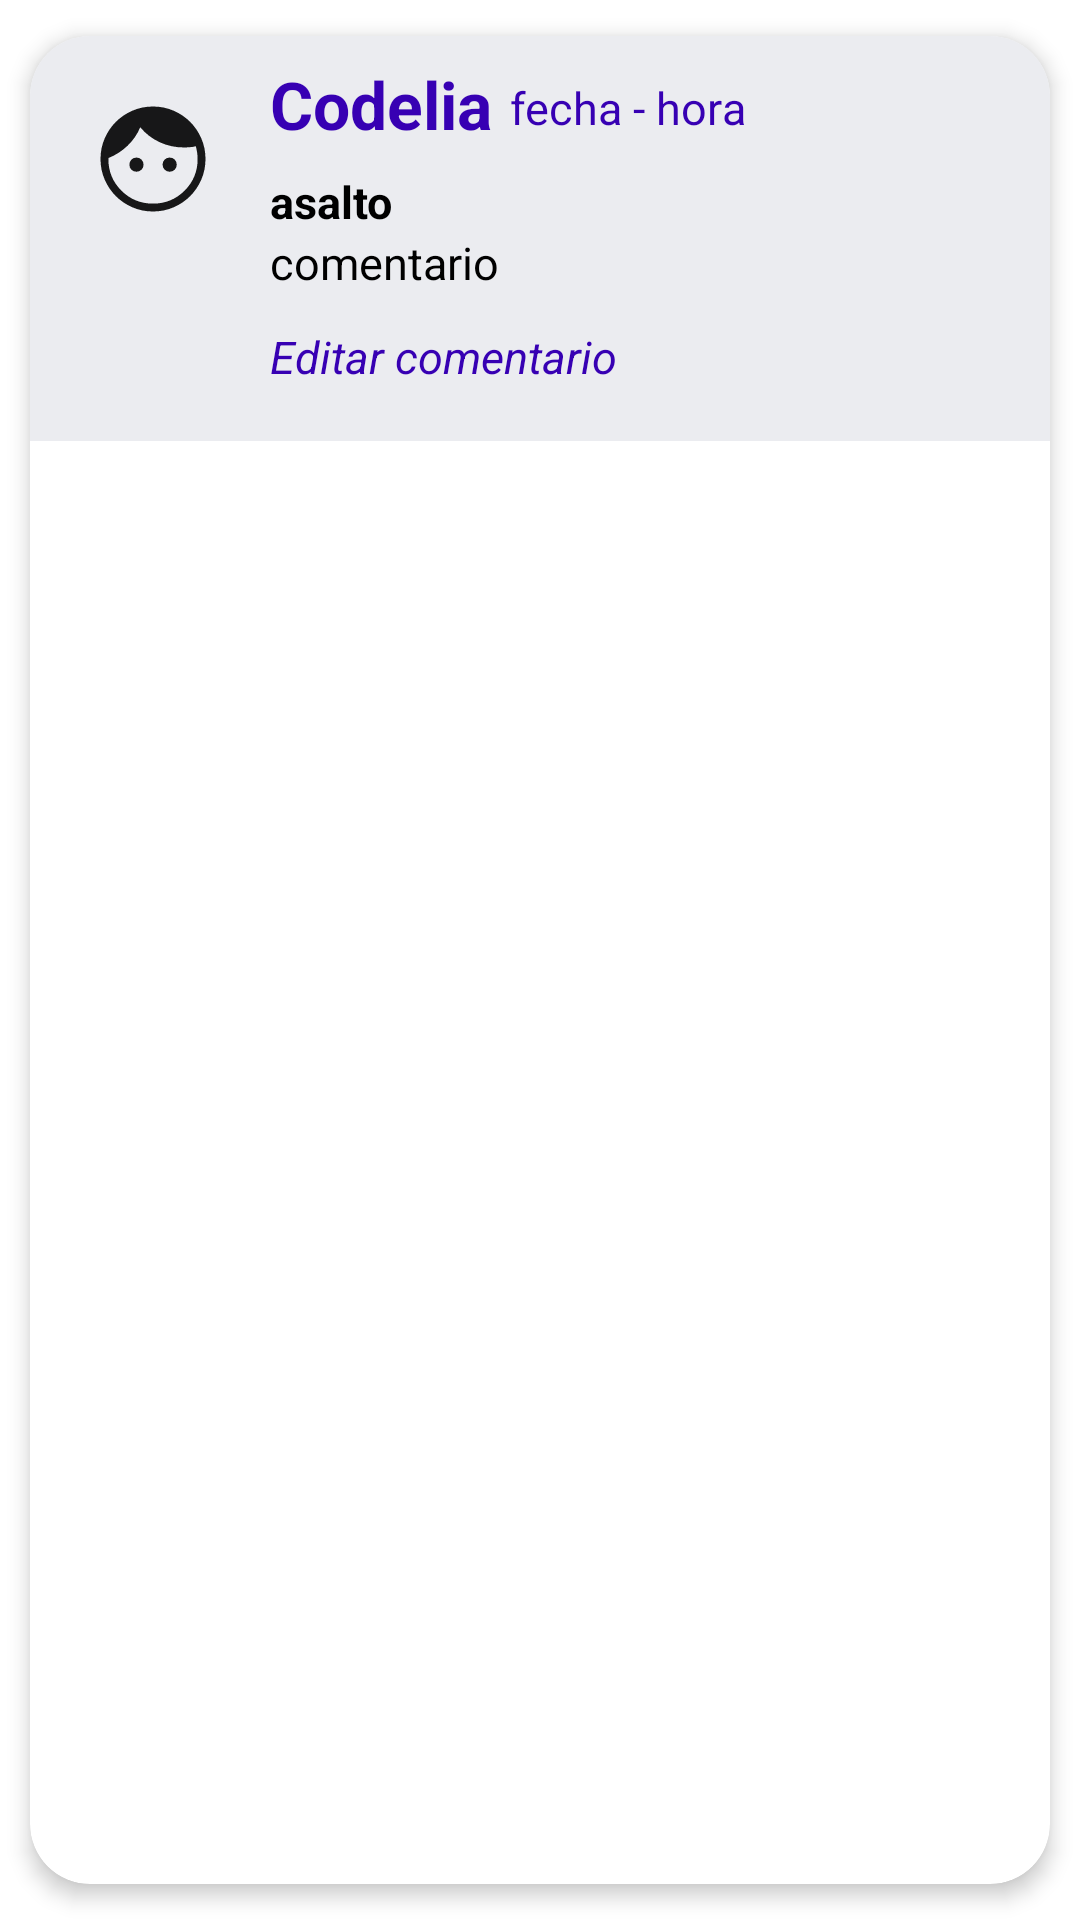

Named icons in this screenshot (1080w x 1920h) and their bounding boxes, (x1=x1, y1=y1, x2=x2, y2=y2):
user: (x1=100, y1=106, x2=206, y2=212)
